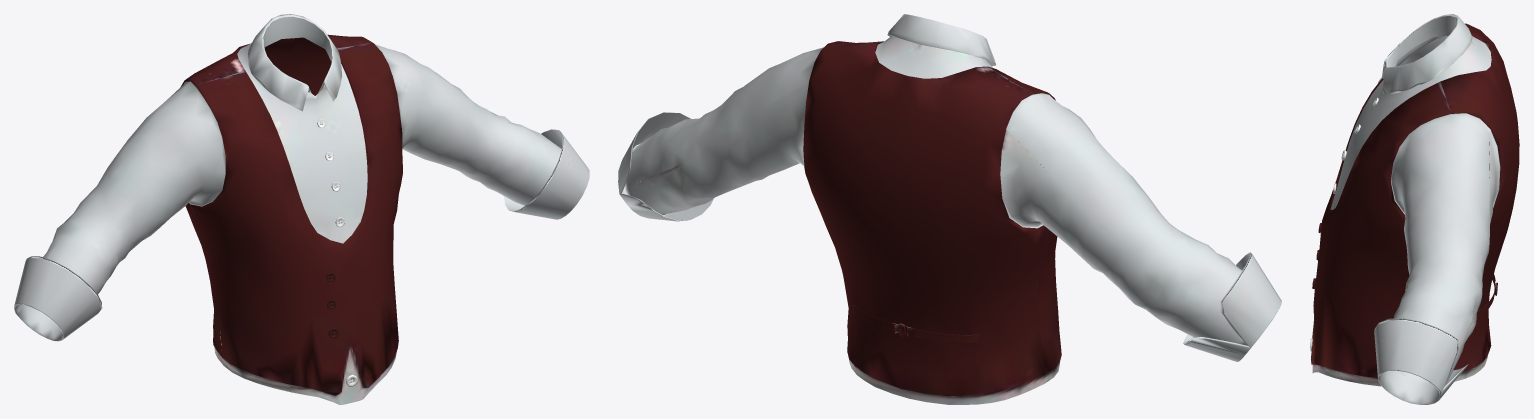
Rendered from ropa_a_fashionable_waistcoat.glb.
The picture shows the model from 3 angles, left to right: view 1: azimuth 30°, elevation 25°; view 2: azimuth 150°, elevation 25°; view 3: azimuth 270°, elevation 25°; orthographic projection. The views are drawn at different scales.
Parts seen in each view (by area): view 1: defaultMaterial; view 2: defaultMaterial; view 3: defaultMaterial.
Boxes of the visible parts, x1=… form: defaultMaterial: x1=14, y1=14, x2=589, y2=404; defaultMaterial: x1=618, y1=14, x2=1281, y2=404; defaultMaterial: x1=1310, y1=14, x2=1519, y2=404.
Bounding box in the file's own units: 1.41 × 0.8 × 0.4352.
1 material, 1 textured.
